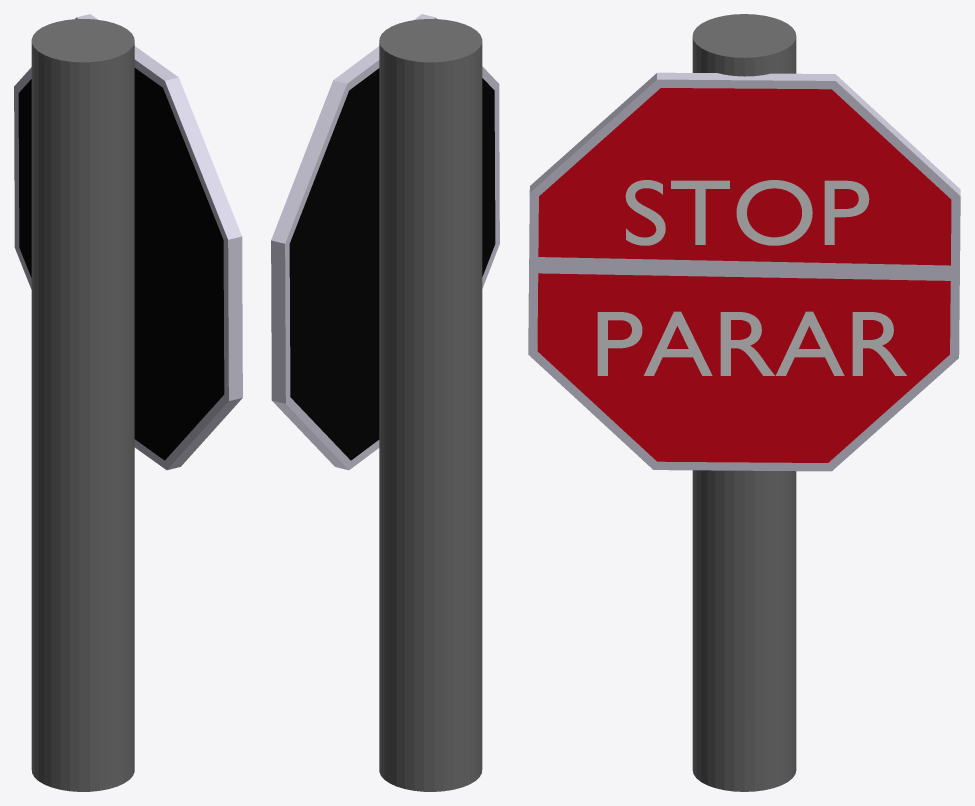
Rendered from stop_sign_billingual.fbx.
3 views of the same model, side by side, from view 1: azimuth 30°, elevation 25°; view 2: azimuth 150°, elevation 25°; view 3: azimuth 270°, elevation 25° (orthographic).
Visible parts, largest first — view 1: Cylinder, Circle; view 2: Cylinder, Circle; view 3: Circle, Cylinder, Text.001, Text.
Part boxes in pixels (box(x1,y1,x2,y2)): Cylinder: box(31, 19, 134, 791); Circle: box(14, 14, 242, 470); Cylinder: box(379, 19, 482, 791); Circle: box(271, 14, 499, 470); Circle: box(528, 72, 960, 471); Cylinder: box(692, 14, 796, 791); Text.001: box(597, 311, 906, 375); Text: box(625, 180, 869, 245).
Size of the model in its own units: 2.22 by 15.6 by 8.33.
